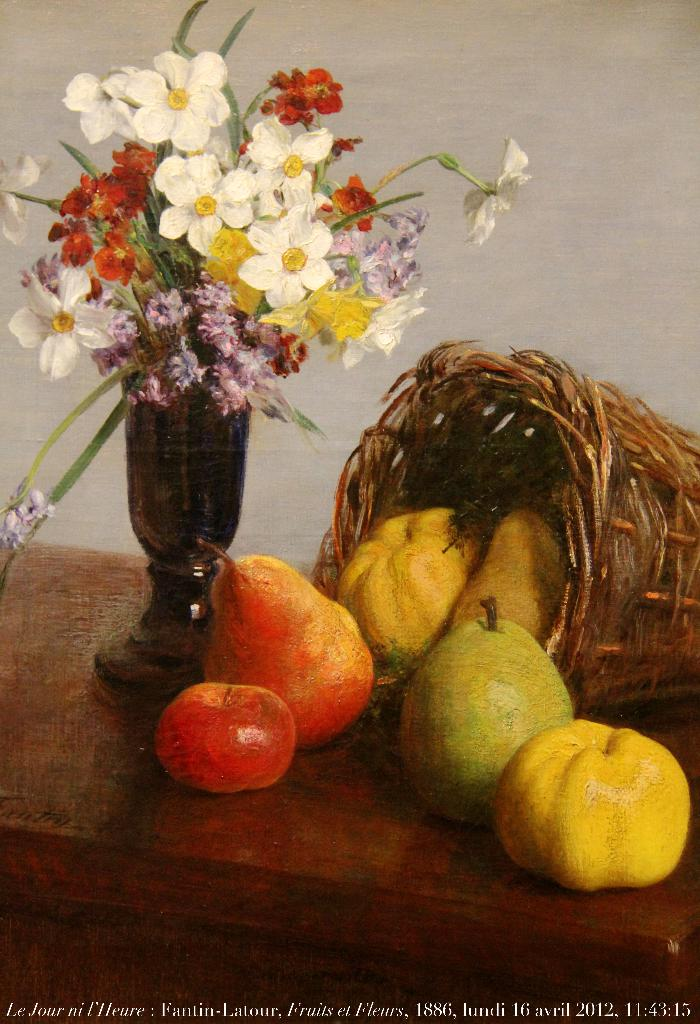Apple: (156, 679, 298, 800)
